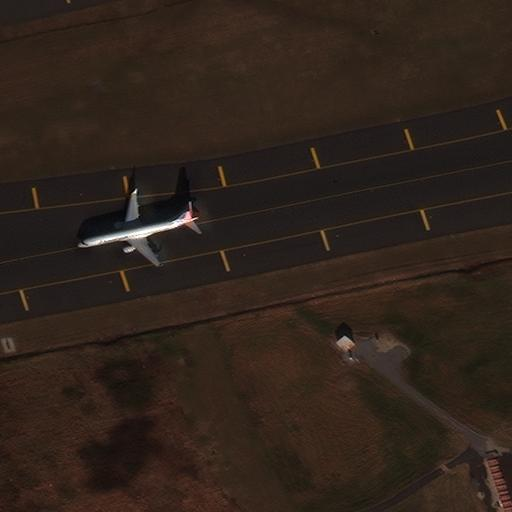Medium Civil Transport: (76, 191, 198, 266)
